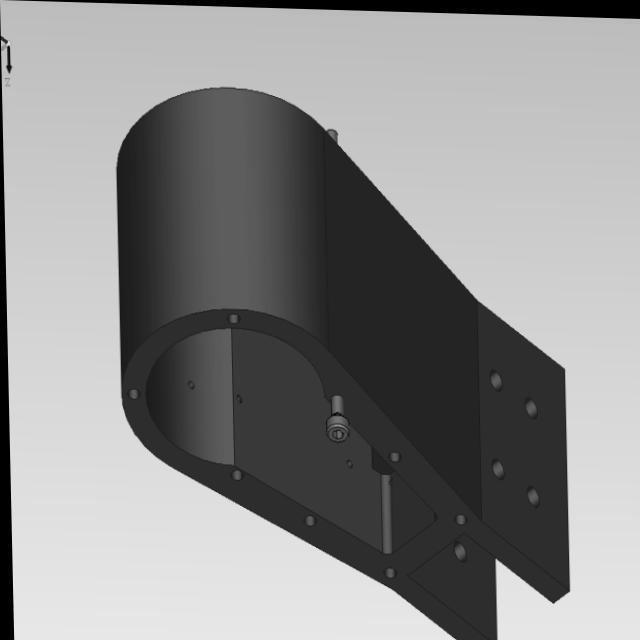screw: (319, 391, 354, 443)
